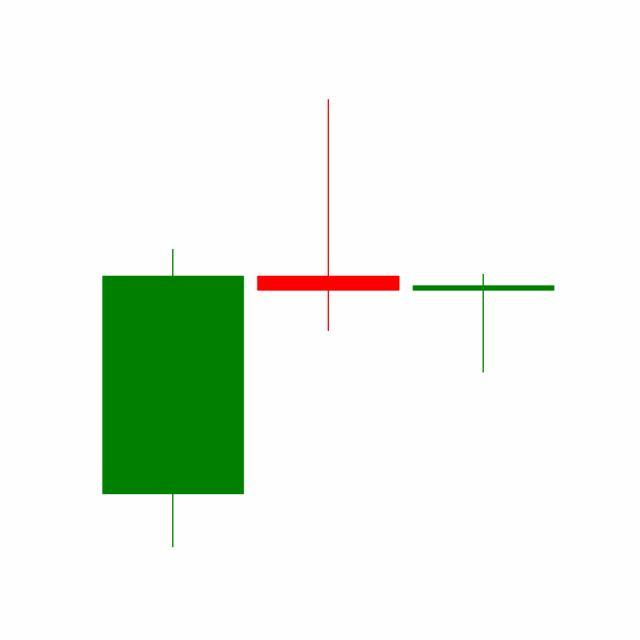Dragonfly Doji: (406, 272, 562, 374)
